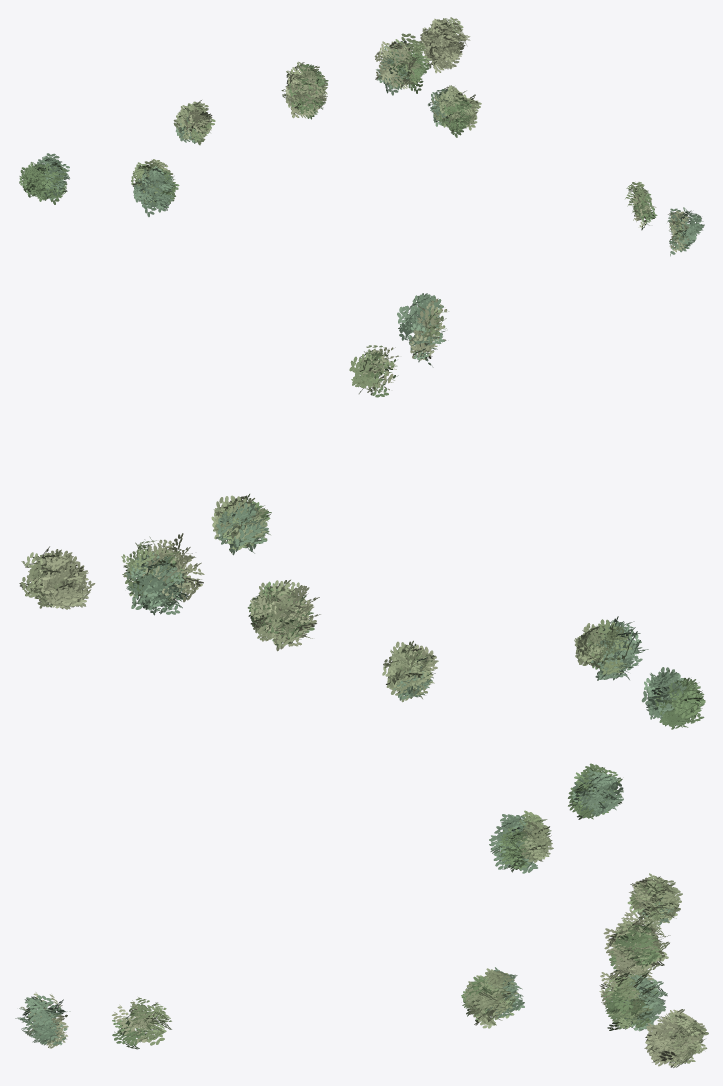
File: campus-tree-0_-2-middle-photo.glb
The picture shows the model from 3 angles, top to bottom: view 1: azimuth 30°, elevation 25°; view 2: azimuth 150°, elevation 25°; view 3: azimuth 270°, elevation 25°; orthographic projection. The views are drawn at different scales.
Visible parts, largest first — view 1: Campus leaf canopy; view 2: Campus leaf canopy; view 3: Campus leaf canopy.
Part boxes in pixels (x1,y1,x2,y2): Campus leaf canopy: (19, 17, 704, 256); Campus leaf canopy: (19, 293, 705, 729); Campus leaf canopy: (15, 763, 708, 1067).
Size of the model in its own units: 53.04 by 8.01 by 54.35.
Materials: 1 (1 with a texture image).
